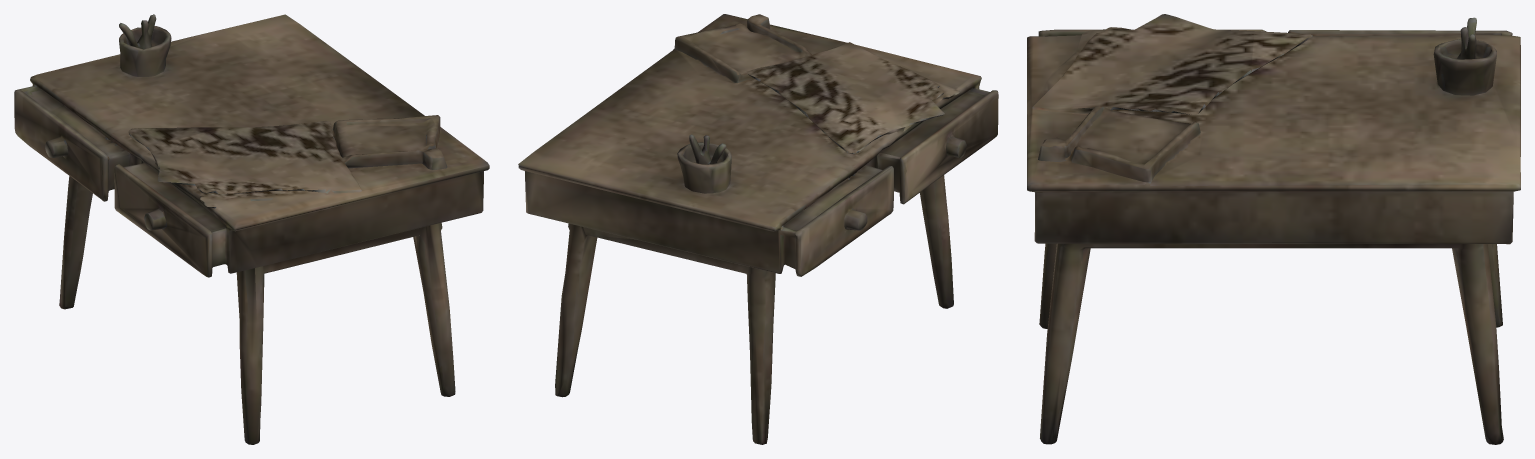
The model's file is simple-wood-desk-v001.glb.
3 views of the same model, side by side, from view 1: azimuth 30°, elevation 25°; view 2: azimuth 150°, elevation 25°; view 3: azimuth 270°, elevation 25° (orthographic). The views are drawn at different scales.
Visible parts, largest first — view 1: simple-wood-desk; view 2: simple-wood-desk; view 3: simple-wood-desk.
Boxes of the visible parts, x1,y1,x2,y2 form: simple-wood-desk: [14, 14, 489, 444]; simple-wood-desk: [518, 14, 998, 444]; simple-wood-desk: [1027, 14, 1520, 444].
Bounding box in the file's own units: 0.854 × 0.7885 × 1.05.
1 material, 1 textured.
